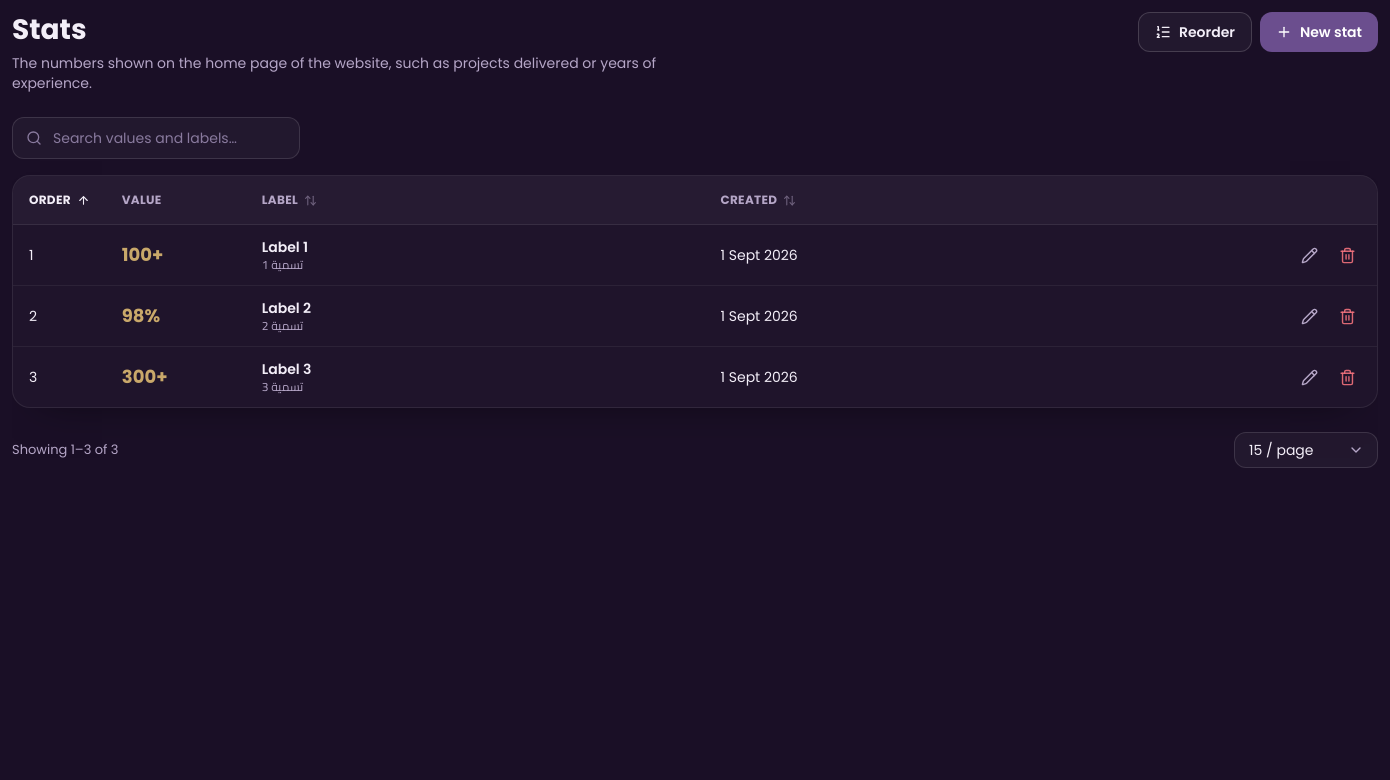
Test: StatList › reorder mode › loads every row (per_page 200), reorders optimistically and saves the new order
Check: the text "Label 1" is shown, box [262,237,308,257]
Click the button "Reorder": (1195, 32) [1138,12,1252,52]
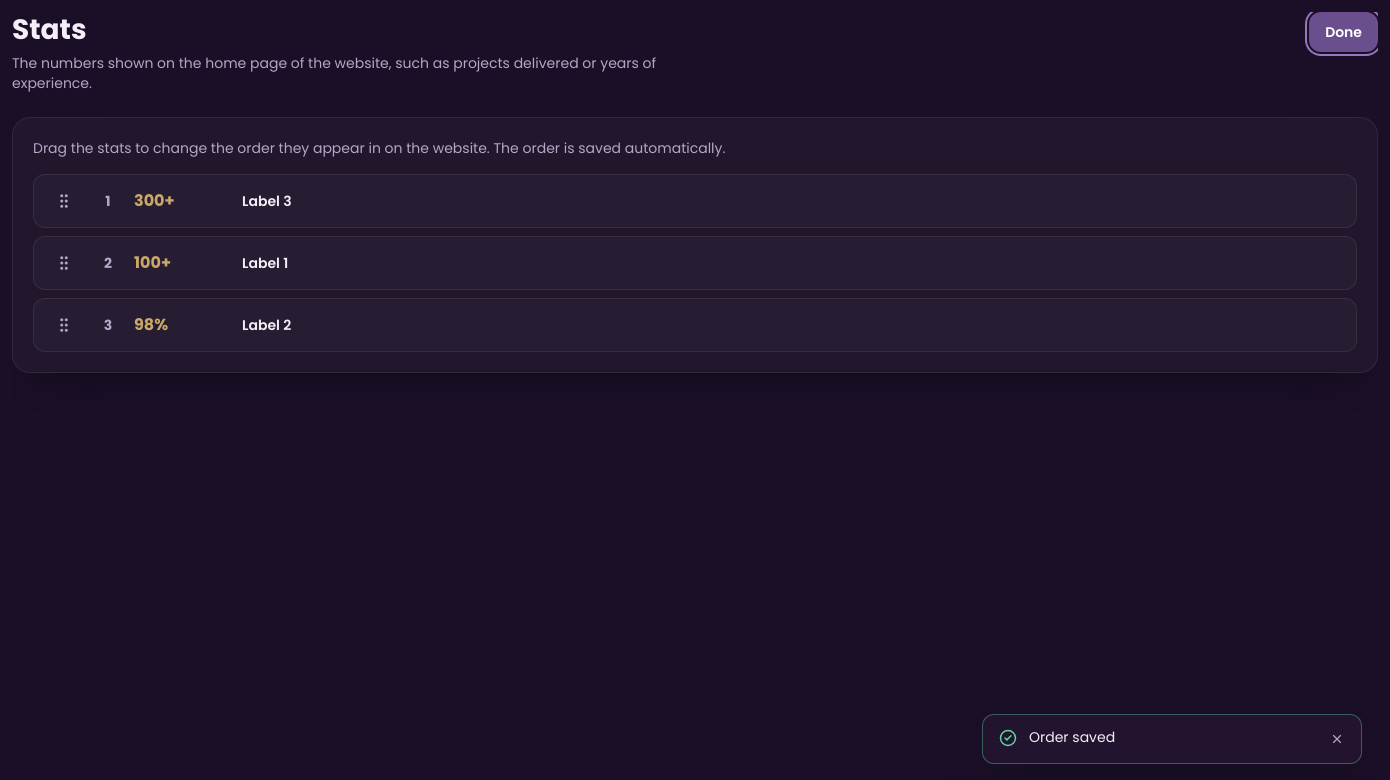
Check: the number of list items is 3, box [33,174,1357,228]; [33,236,1357,290]; [33,298,1357,352]
Check: the number of buttons named "Drag to reorder" is 3, box [46,183,82,219]; [46,245,82,281]; [46,307,82,343]
Check: the text "Order saved" is shown, box [1029,727,1115,747]
